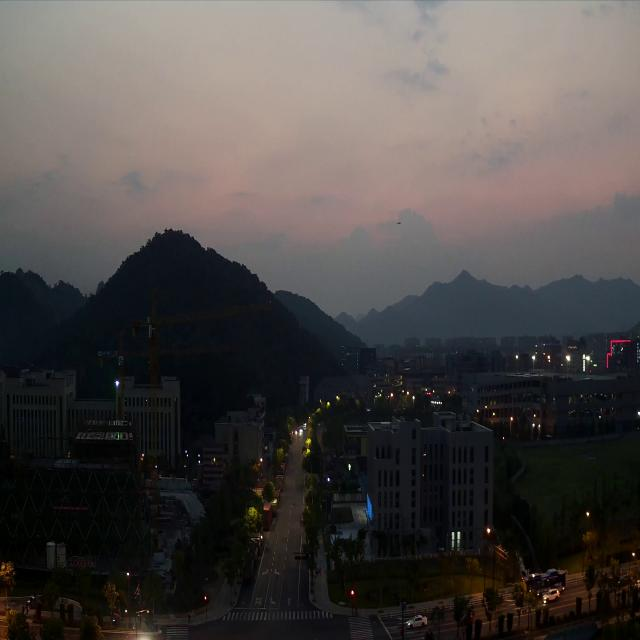drone: (397, 222, 401, 224)
